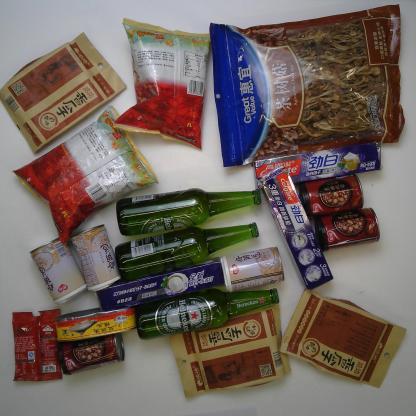Alcohol: (113, 222, 264, 284), (135, 288, 280, 341), (114, 187, 264, 236)
Canned Food: (29, 236, 90, 306), (69, 224, 122, 292), (314, 206, 383, 254), (221, 245, 288, 294), (57, 332, 128, 376), (56, 304, 136, 343), (297, 173, 364, 218)
Dried Food: (207, 3, 410, 167), (2, 32, 127, 154), (278, 287, 408, 389), (168, 303, 294, 403)
Instant Drink: (11, 309, 63, 383)
Personal Hygiene: (256, 167, 336, 292), (94, 256, 225, 312), (251, 142, 384, 191)
Puffed Food: (11, 104, 160, 245), (112, 14, 211, 151)
